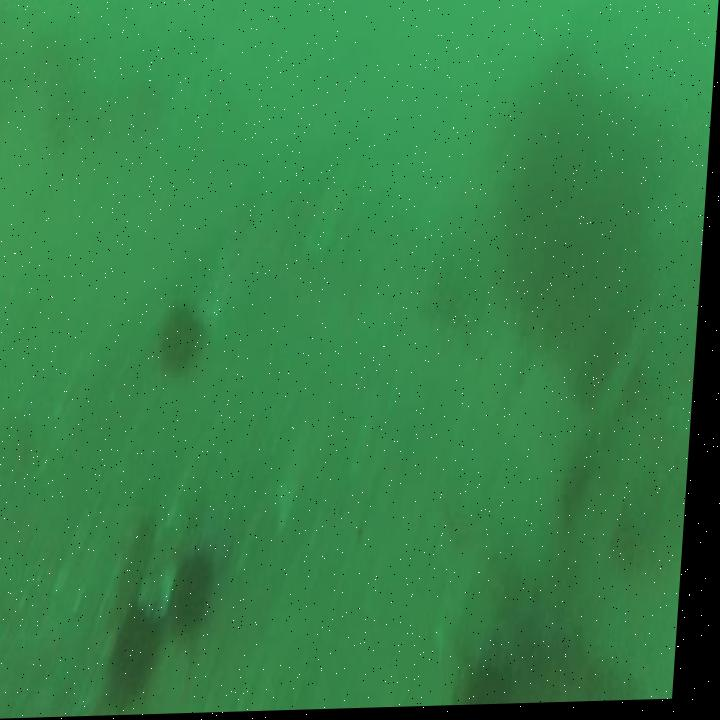echinus: (103, 596, 178, 715), (174, 547, 228, 644), (161, 297, 214, 384)
